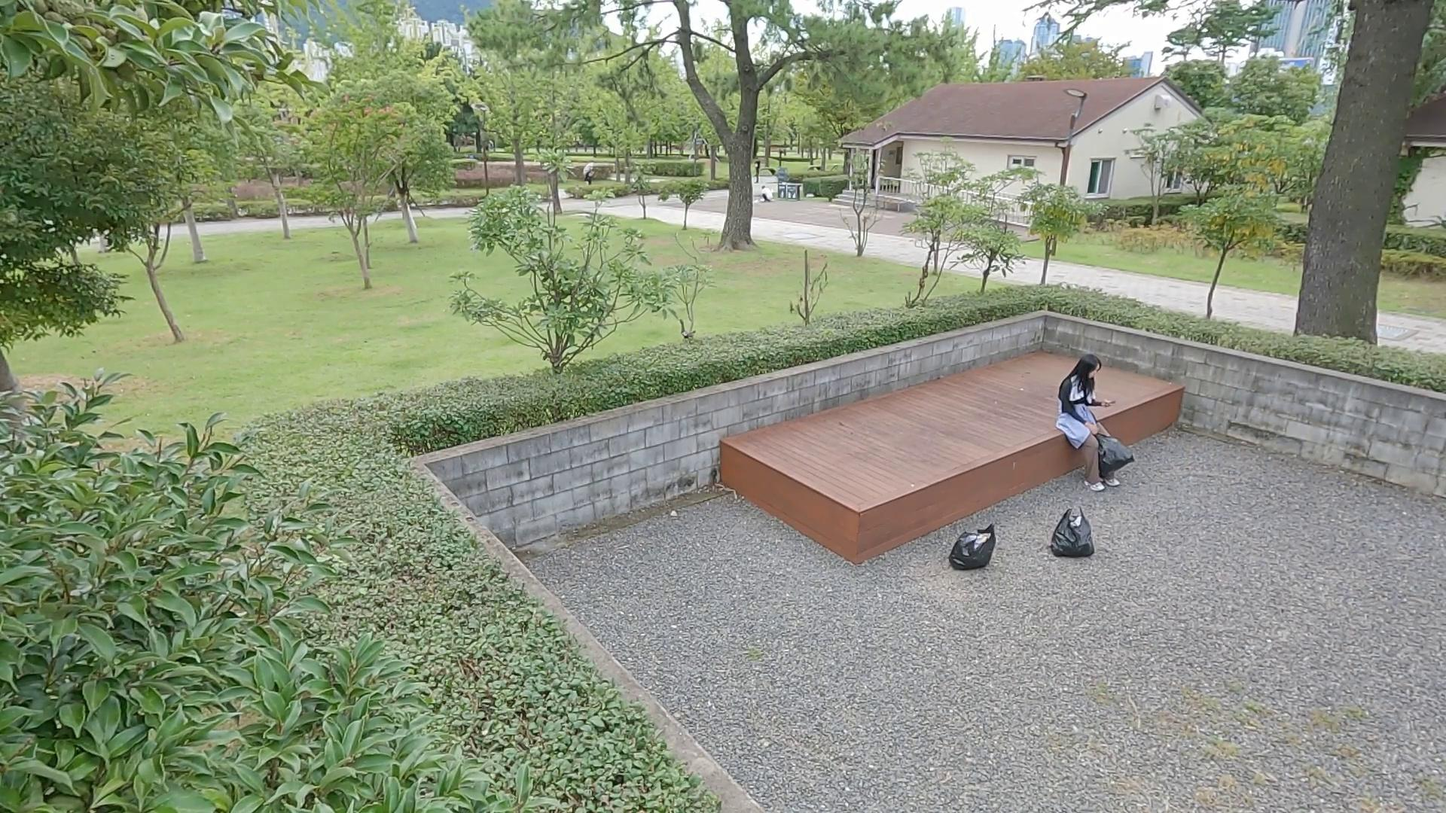person: (1057, 347, 1130, 494)
trash: (1089, 430, 1139, 482), (950, 524, 997, 575), (1048, 510, 1095, 558)
